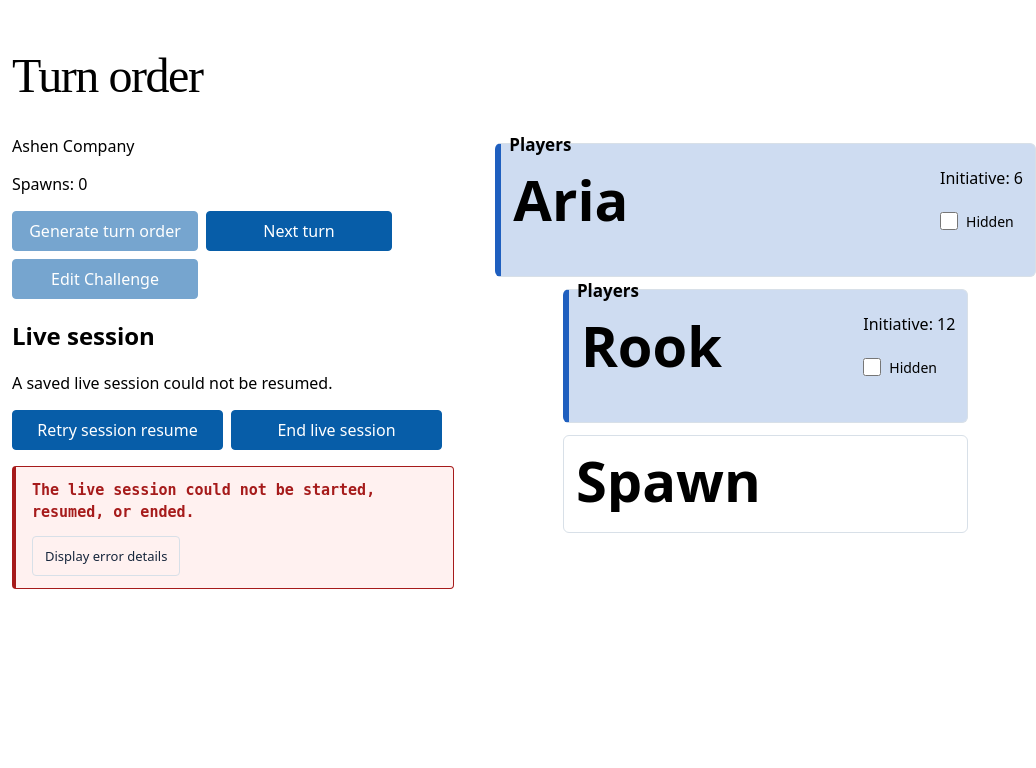
Test: turn-order run route › clears a saved credential when ending a session that could not be resumed
Check: the button "Retry session resume" is shown, box [12,410,223,450]
Click the button "End live session": (336, 430) [231,410,442,450]
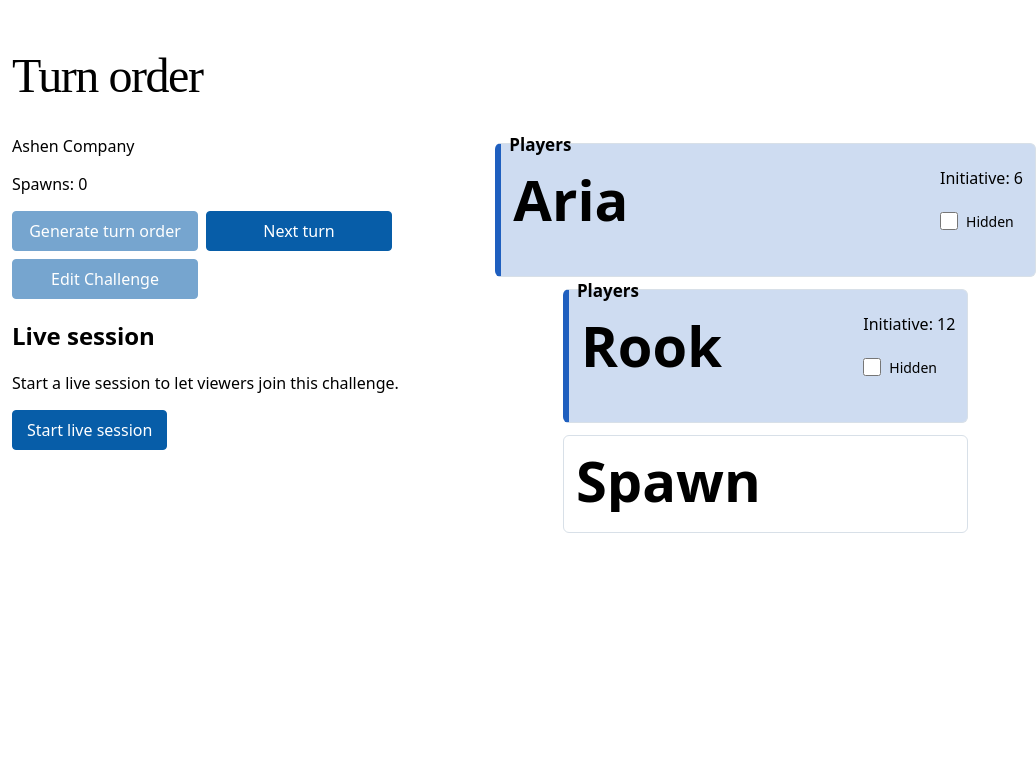
Check: the button "Start live session" is shown, box [12,410,167,450]
